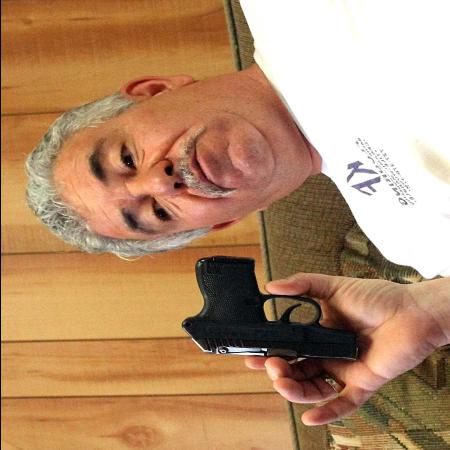Pistol: (174, 250, 362, 363)
